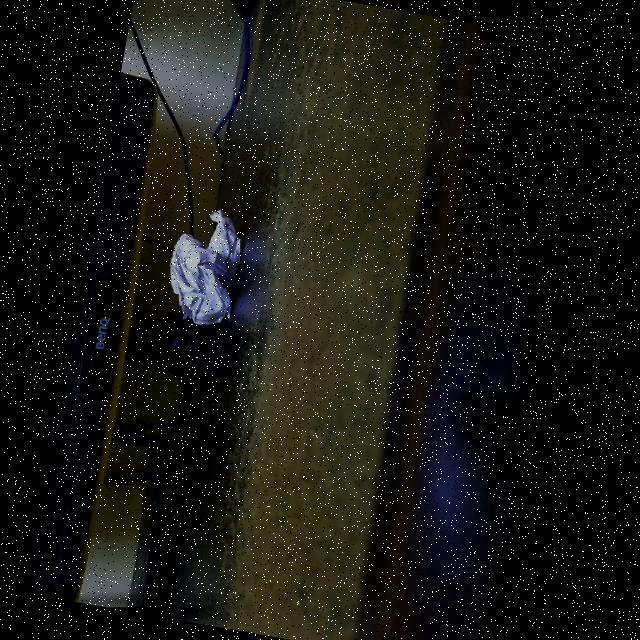scrap_paper: (156, 201, 260, 324)
